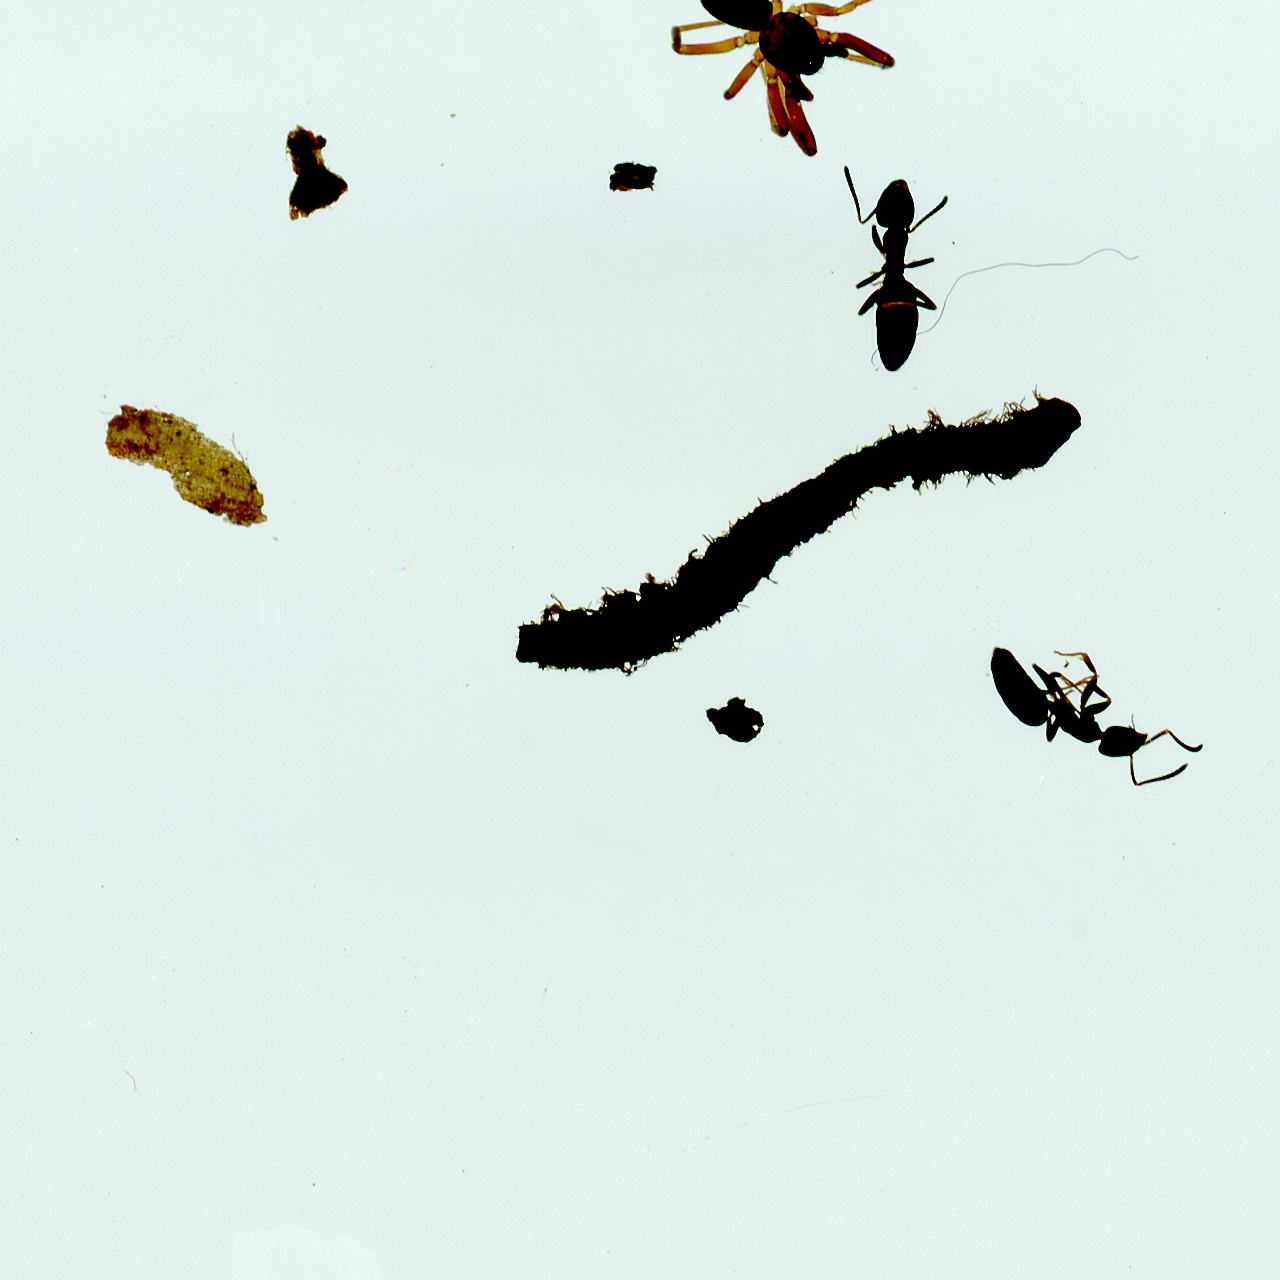arthropod: (956, 615, 1211, 813), (669, 0, 899, 161), (836, 163, 952, 379)
